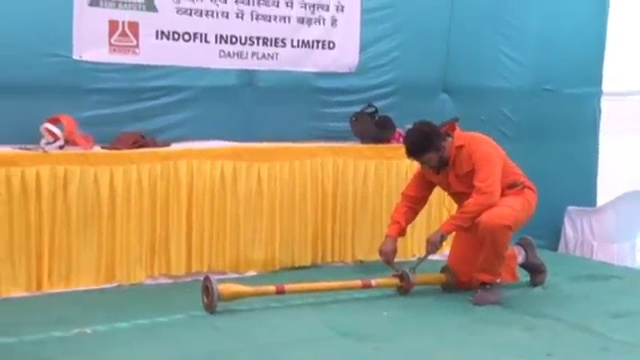helmet_off: (404, 119, 452, 171)
person: (384, 114, 549, 304)
